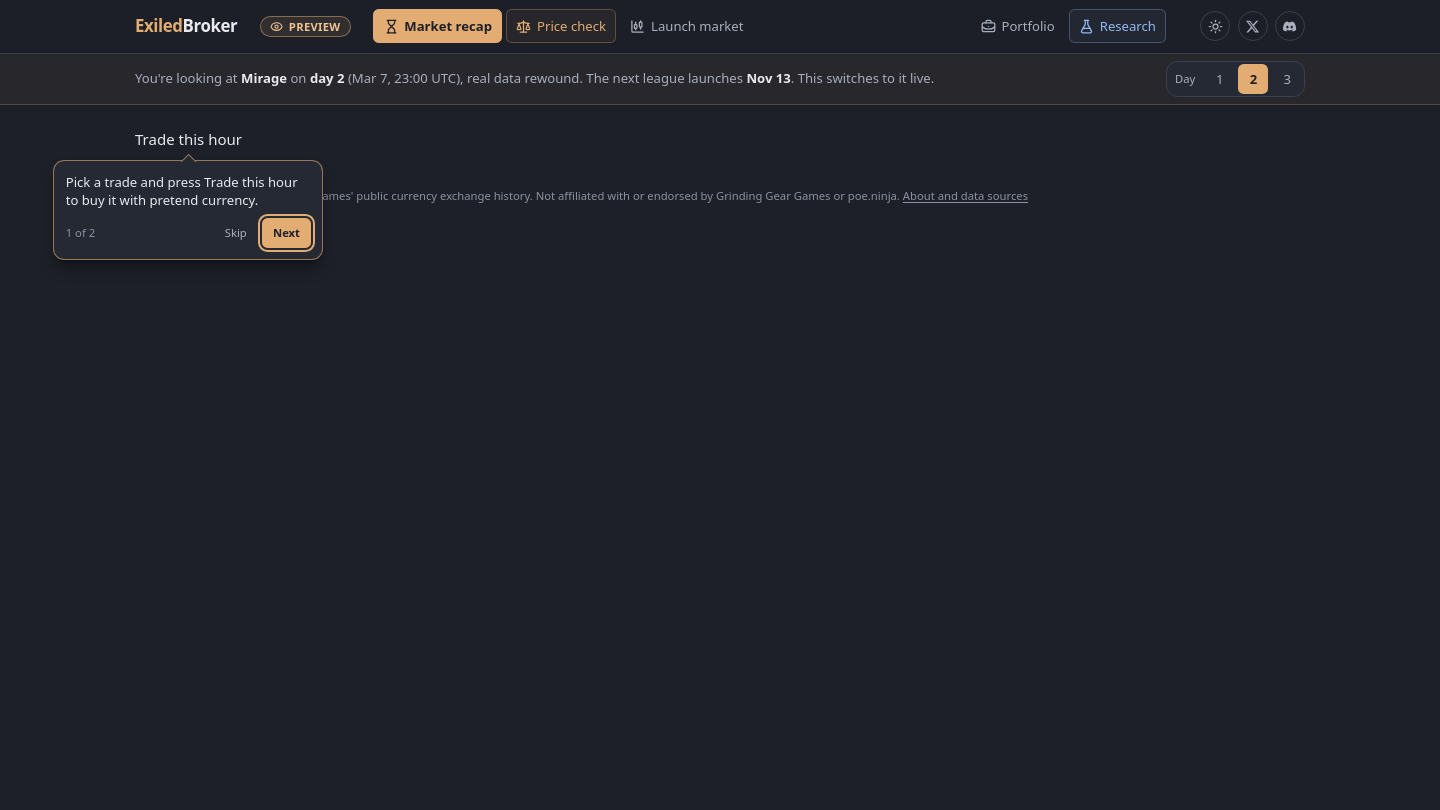
Test case: first-visit tour › waits for a trade to point at, then leaves out targets not on the page
Check: the text "Preview" is shown, box top-left (260, 16), bottom-right (351, 37)
Check: the dialog named "Trading game tour" shows "Trade this hour", box top-left (66, 172), bottom-right (298, 208)
Click the button "Next": (287, 233) top-left (262, 218), bottom-right (311, 248)
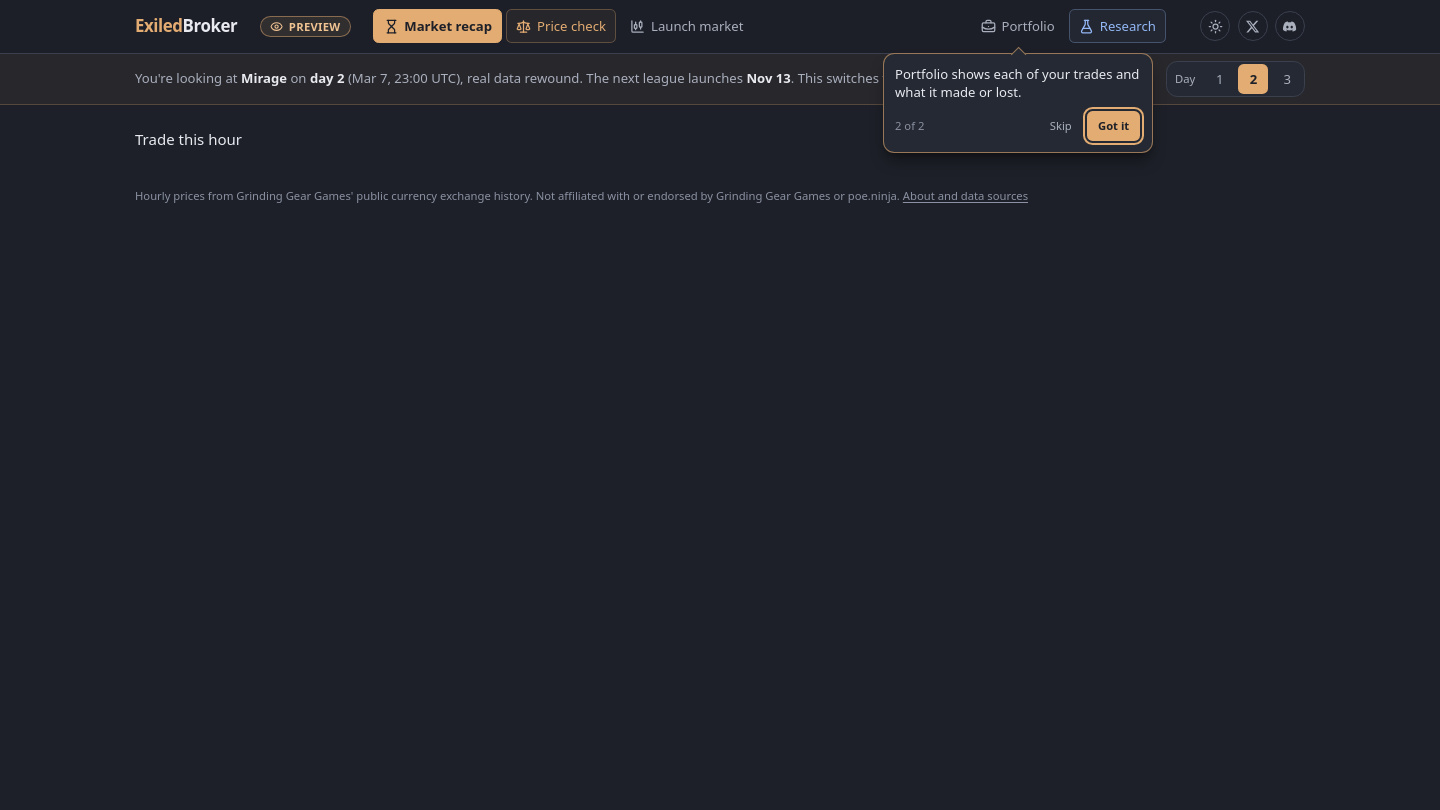
Check: the dialog named "Trading game tour" shows "Portfolio shows", box top-left (895, 65), bottom-right (1140, 101)
